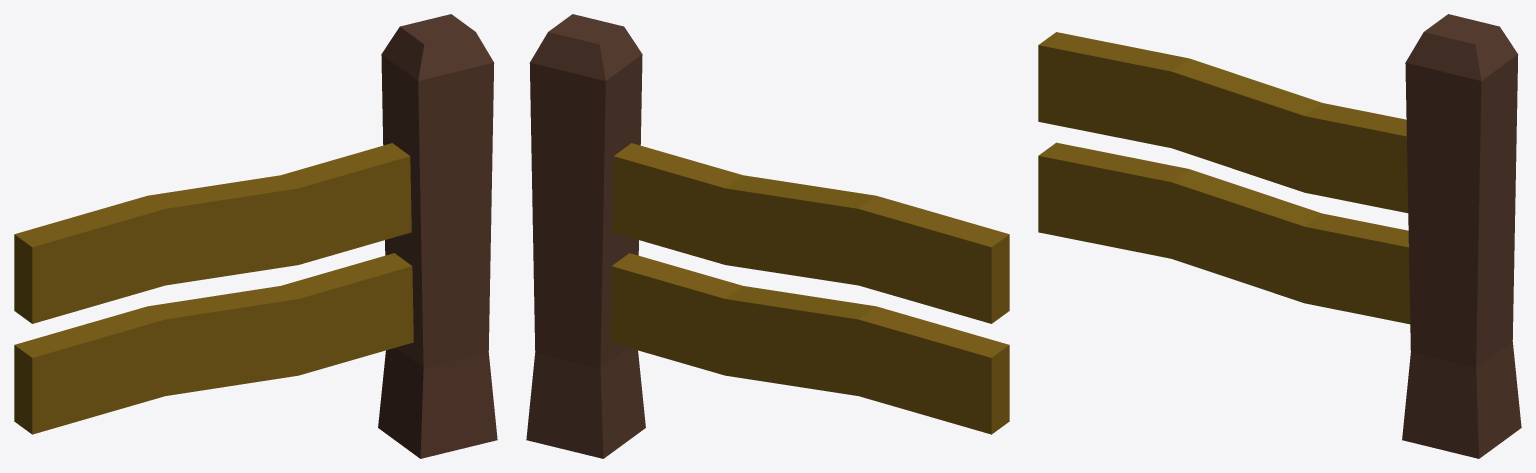
File: fencepartial.fbx
The picture shows the model from 3 angles, left to right: view 1: azimuth 30°, elevation 25°; view 2: azimuth 150°, elevation 25°; view 3: azimuth 330°, elevation 25°; orthographic projection.
Visible parts, largest first — view 1: Cube.001, Cube.003, Cube.002; view 2: Cube.001, Cube.003, Cube.002; view 3: Cube.001, Cube.003, Cube.002.
Boxes of the visible parts, x1,y1,x2,y2 form: Cube.001: (378, 14, 497, 458); Cube.003: (14, 253, 413, 434); Cube.002: (14, 143, 411, 323); Cube.001: (526, 14, 645, 458); Cube.003: (610, 253, 1009, 434); Cube.002: (612, 143, 1009, 323); Cube.001: (1402, 14, 1521, 458); Cube.003: (1038, 142, 1410, 324); Cube.002: (1038, 32, 1408, 213).
Bounding box in the file's own units: 56.85 × 48.54 × 9.23.
